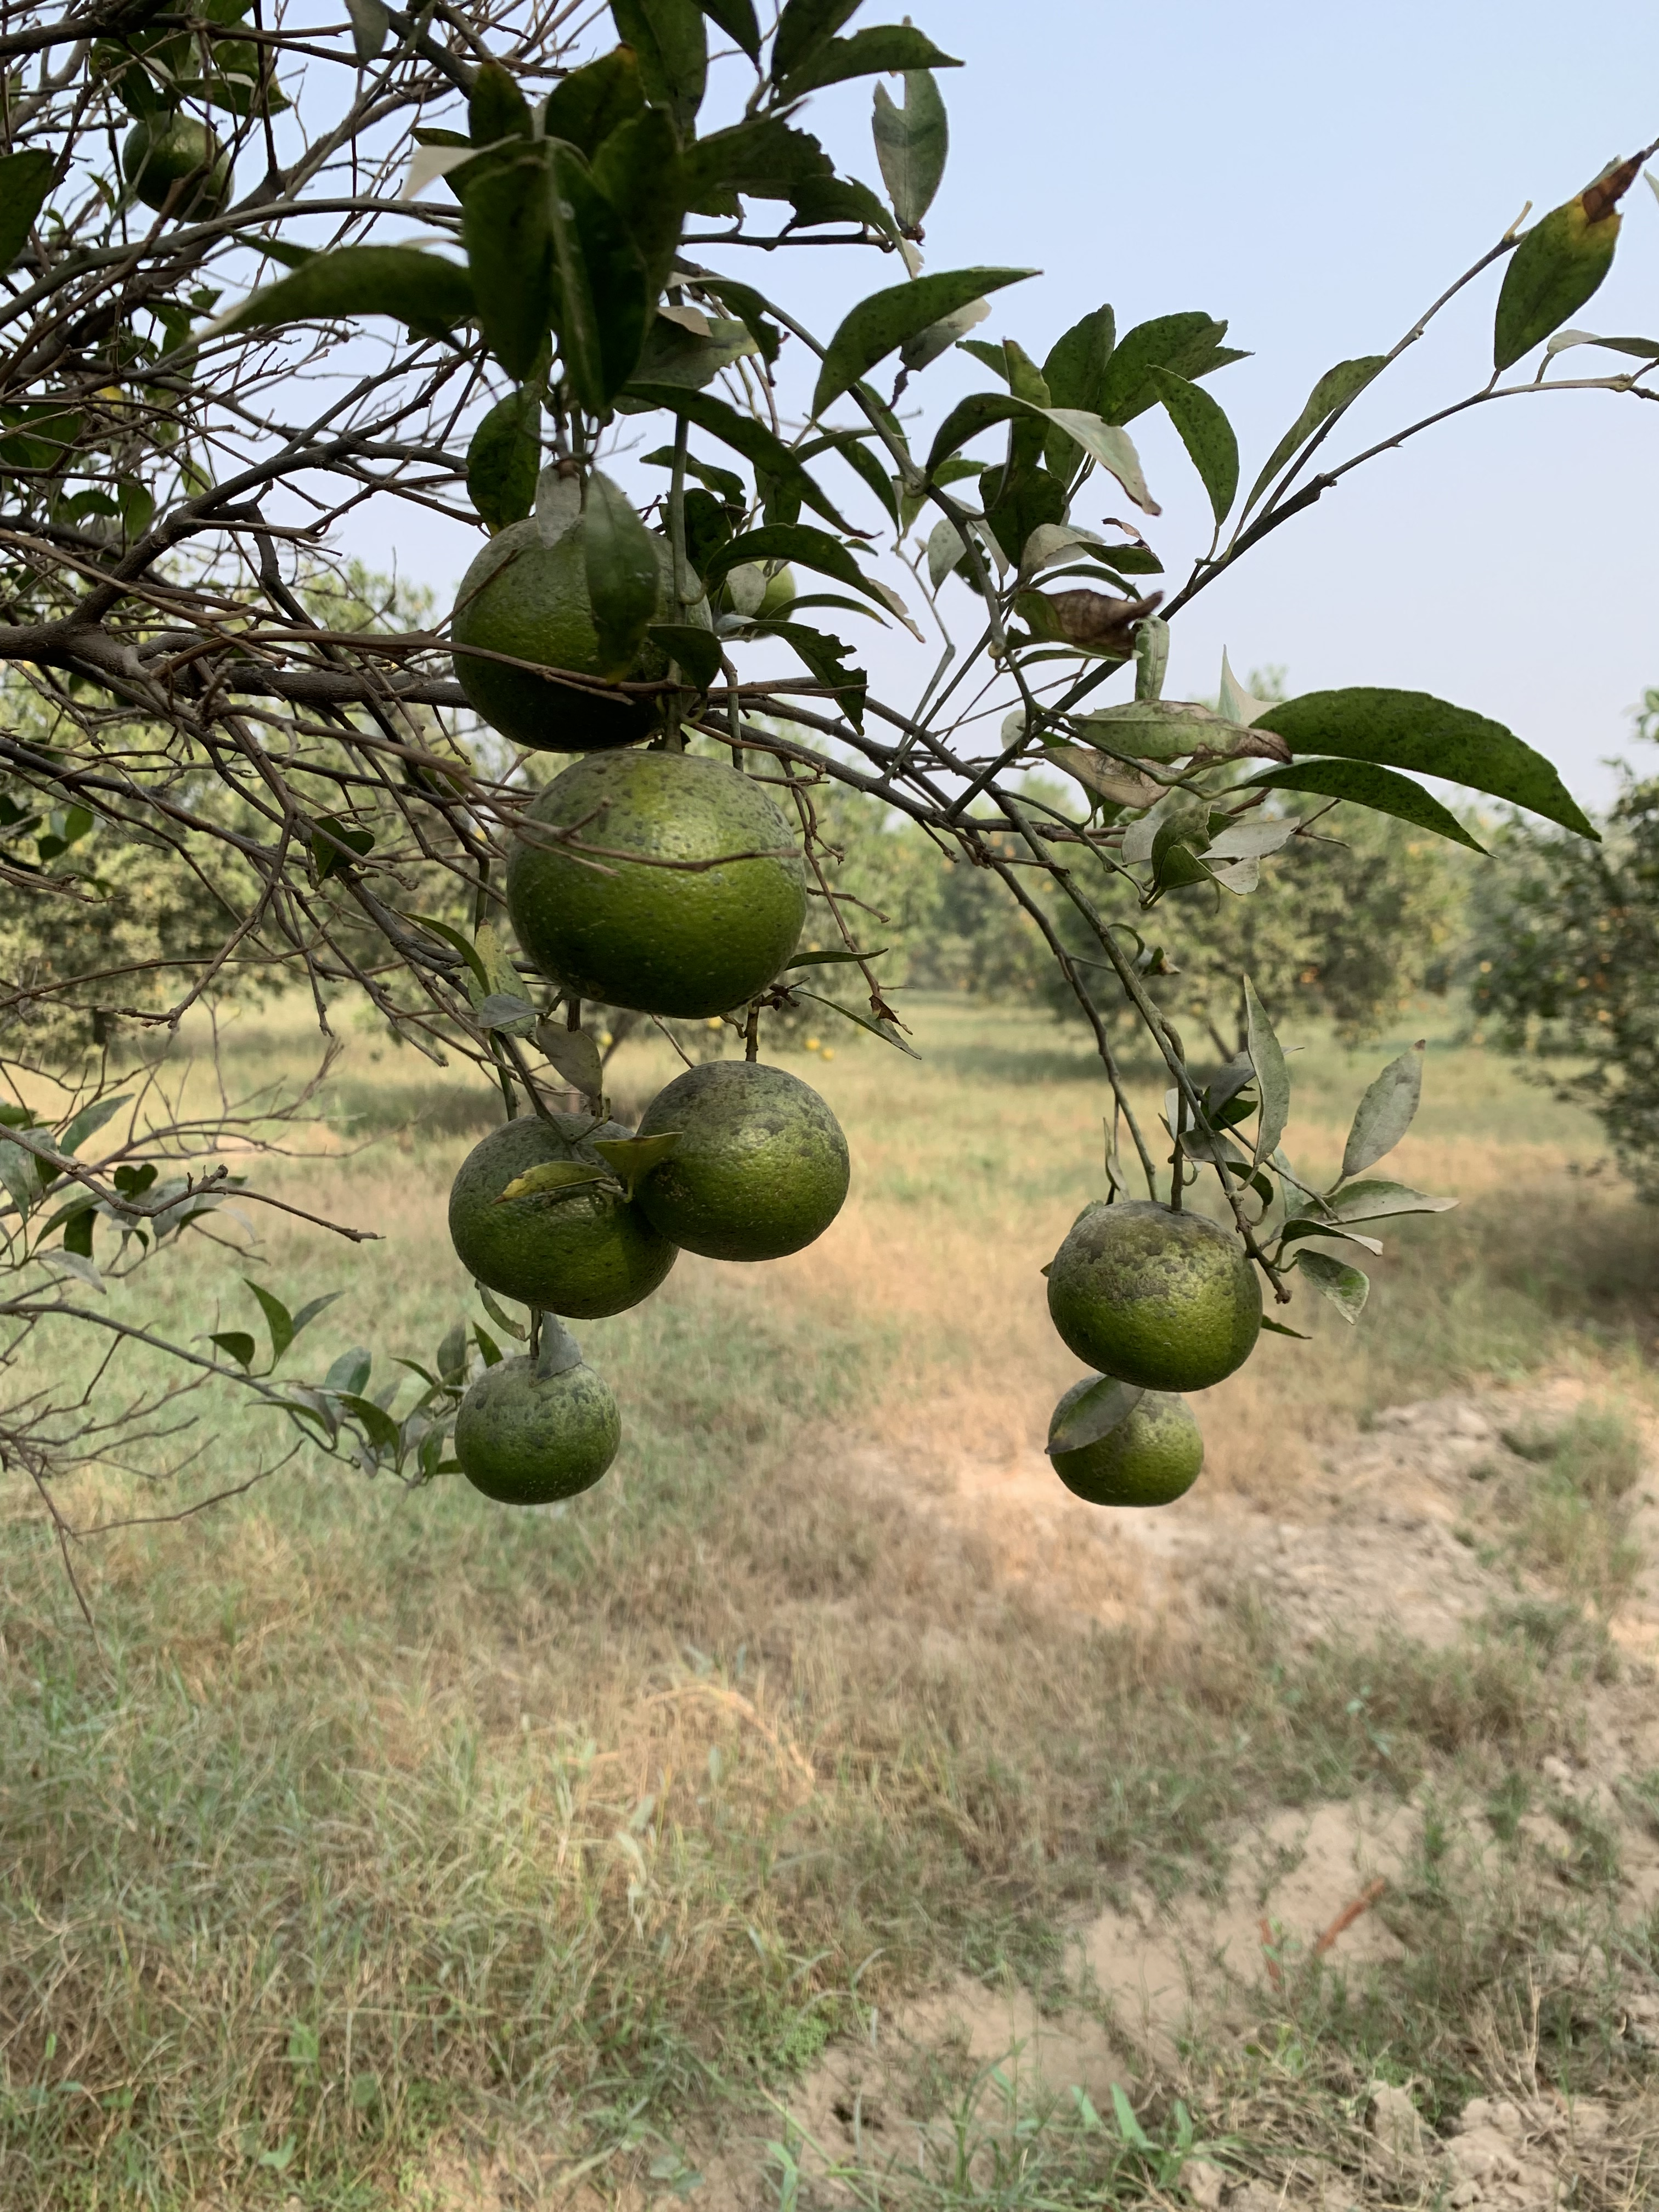orange: (507, 742, 810, 1019), (451, 516, 714, 749), (446, 1115, 687, 1325), (634, 1062, 852, 1268), (1046, 1200, 1265, 1395), (453, 1350, 622, 1505), (1046, 1372, 1206, 1508), (127, 103, 237, 221), (706, 538, 796, 641)
